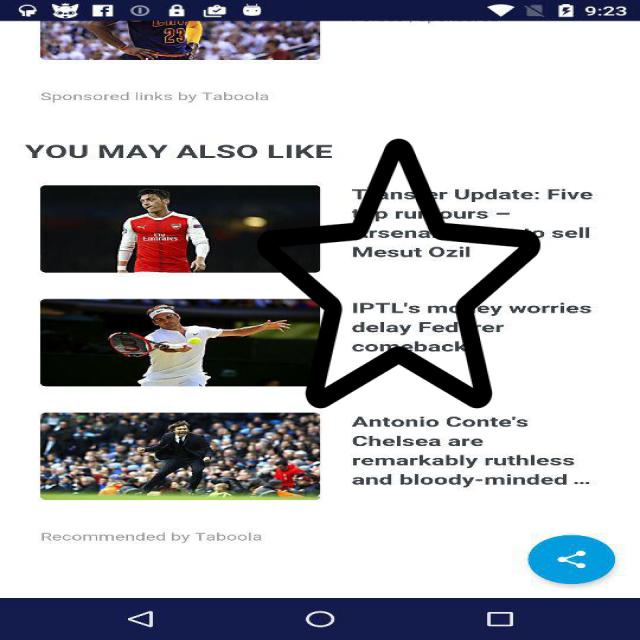forced continuity: (257, 133, 541, 414)
